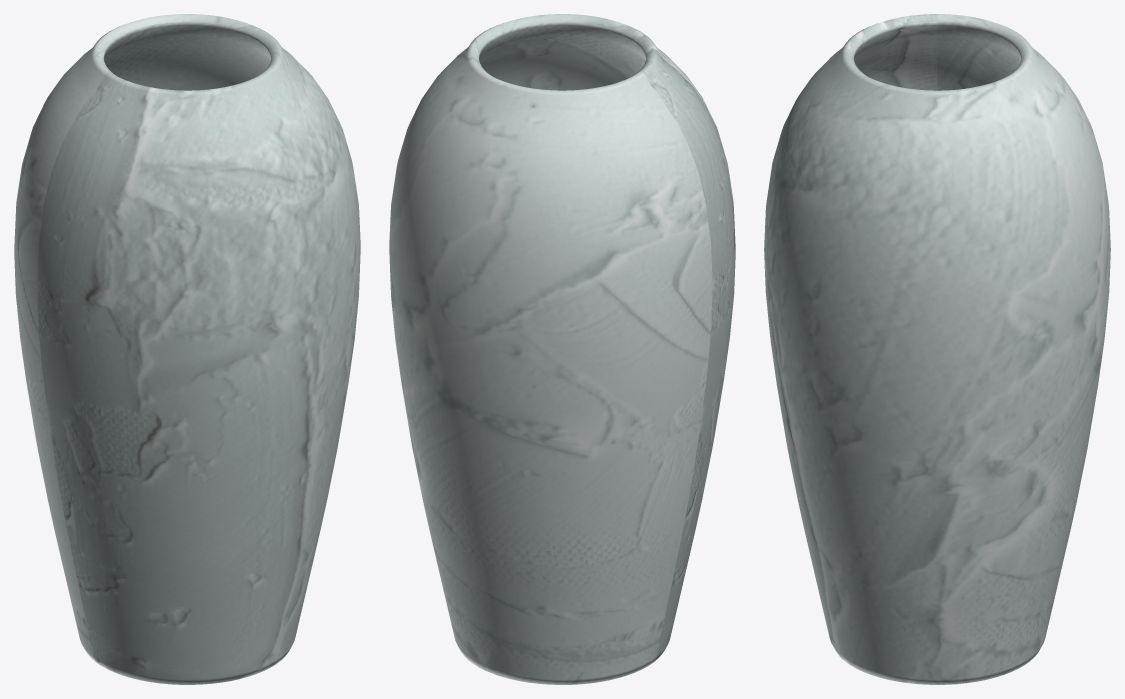
3 views of the same model, side by side, from view 1: azimuth 30°, elevation 25°; view 2: azimuth 150°, elevation 25°; view 3: azimuth 270°, elevation 25° (orthographic).
Visible parts, largest first — view 1: C_vase_low; view 2: C_vase_low; view 3: C_vase_low.
Boxes of the visible parts, x1=… form: C_vase_low: x1=14, y1=14, x2=360, y2=684; C_vase_low: x1=389, y1=14, x2=735, y2=684; C_vase_low: x1=764, y1=14, x2=1110, y2=684.
Size of the model in its own units: 108 by 203 by 108.
1 material, 1 textured.
